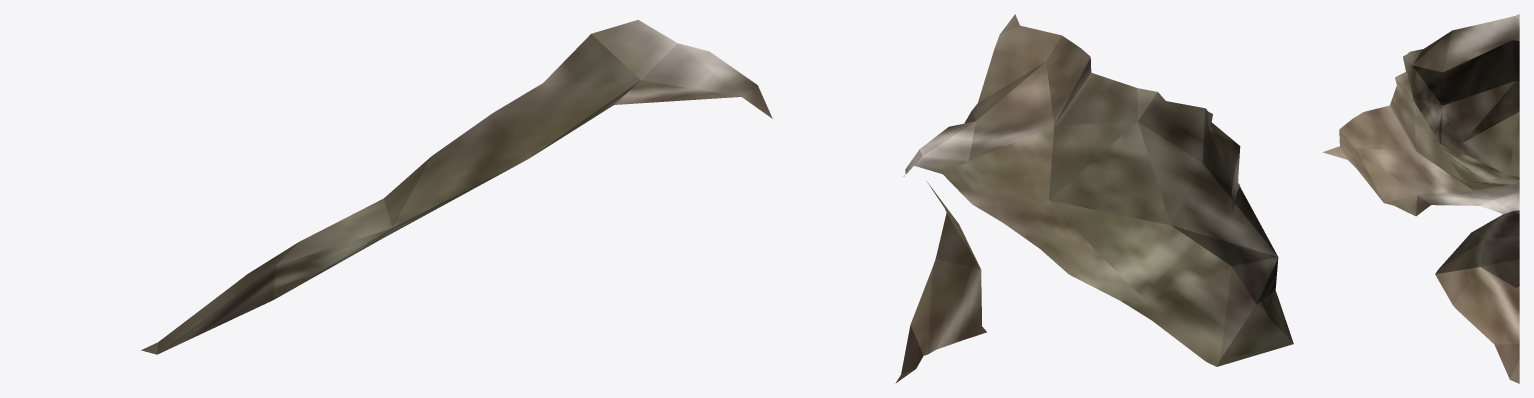
The picture shows the model from 3 angles, left to right: view 1: azimuth 30°, elevation 25°; view 2: azimuth 150°, elevation 25°; view 3: azimuth 270°, elevation 25°; orthographic projection. The views are drawn at different scales.
Size of the model in its own units: 0.6169 by 0.417 by 0.3219.
Materials: 1 (1 with a texture image).
